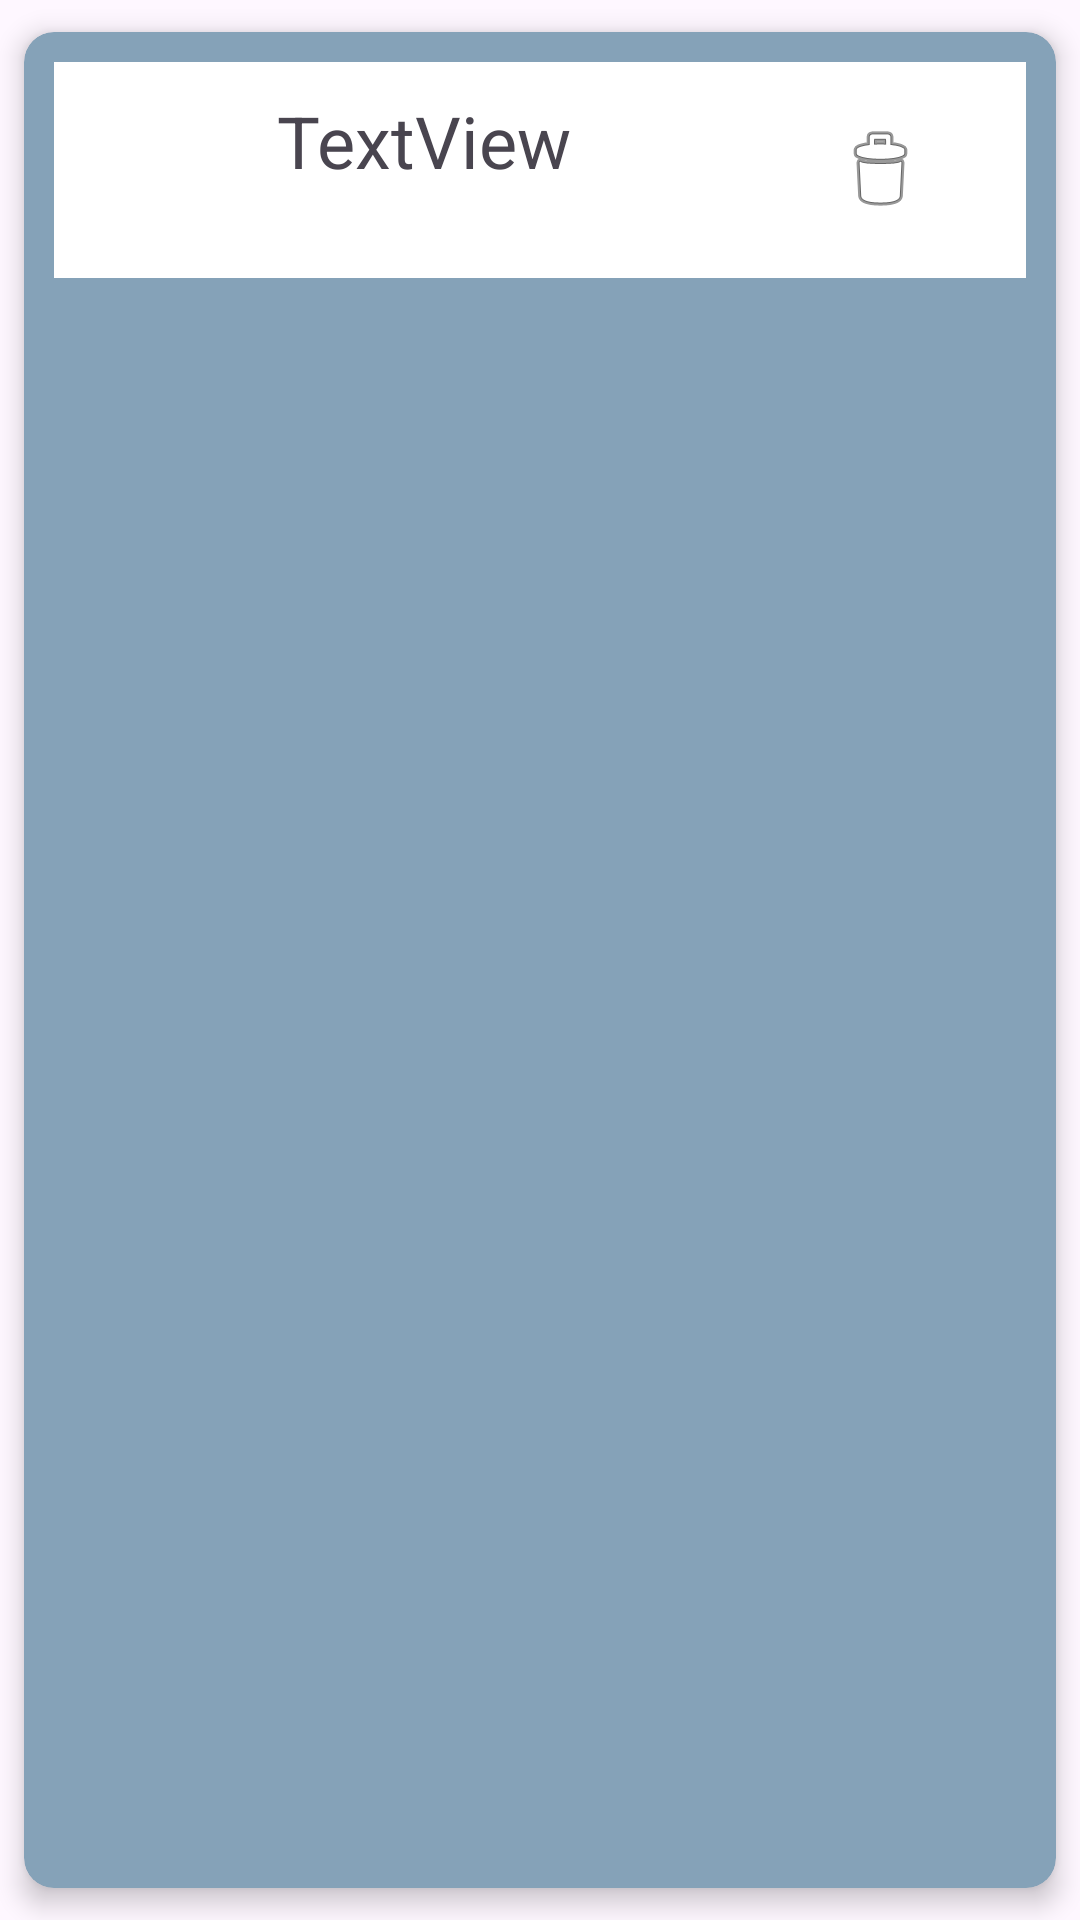

Named icons in this screenshot (1080 x 1920) and their centers, (x=x, y=y):
delete: (x=880, y=168)
